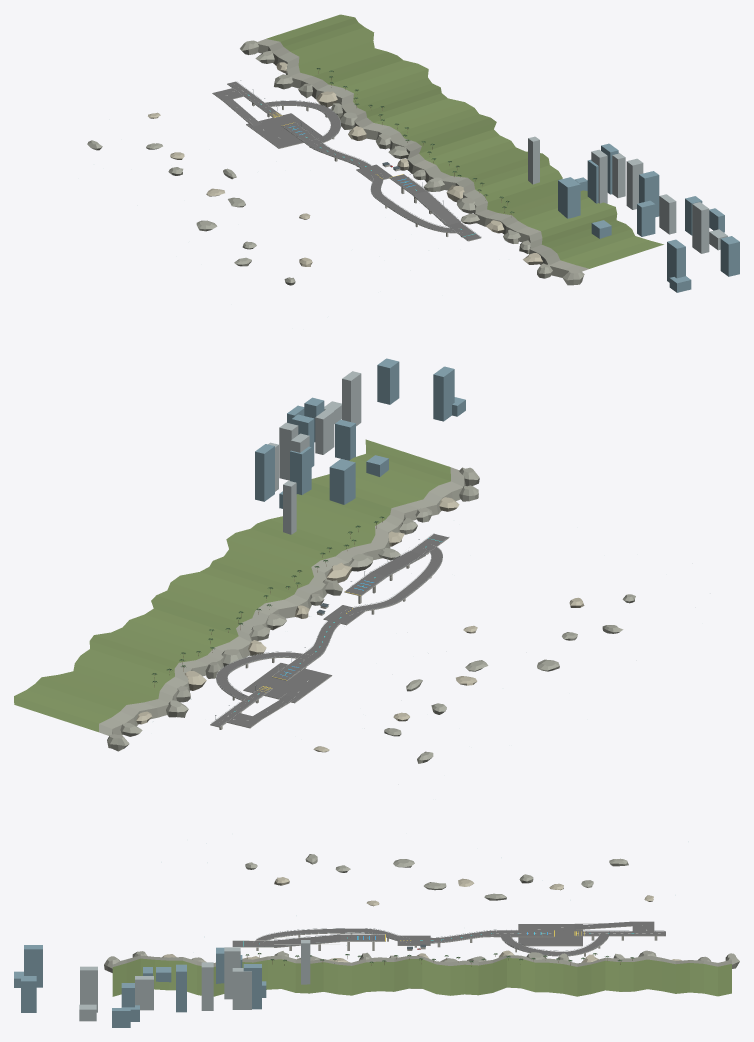
File: coastal-interchange.glb
The picture shows the model from 3 angles, top to bottom: view 1: azimuth 30°, elevation 25°; view 2: azimuth 150°, elevation 25°; view 3: azimuth 270°, elevation 25°; orthographic projection. The views are drawn at different scales.
Visible parts, largest first — view 1: CI_batch_green, CI_batch_rock, CI_batch_glass, CI_batch_building, CI_batch_rockLight, CI_surface_recovery, CI_surface_ramp; view 2: CI_batch_green, CI_batch_rock, CI_batch_glass, CI_batch_building, CI_batch_rockLight, CI_surface_recovery; view 3: CI_batch_green, CI_batch_rock, CI_batch_building, CI_batch_glass, CI_surface_recovery, CI_batch_rockLight, CI_batch_rail, CI_surface_ramp, CI_surface_landing, CI_batch_edge, CI_surface_runway, CI_surface_high (+1 smaller).
Part boxes in pixels (left/top/right/bottom): CI_batch_green: left=266, top=14, right=663, bottom=268; CI_batch_rock: left=87, top=39, right=588, bottom=285; CI_batch_glass: left=383, top=143, right=739, bottom=292; CI_batch_building: left=528, top=136, right=727, bottom=253; CI_batch_rockLight: left=148, top=62, right=542, bottom=266; CI_surface_recovery: left=246, top=113, right=322, bottom=148; CI_surface_ramp: left=412, top=191, right=460, bottom=225; CI_batch_green: left=14, top=439, right=450, bottom=732; CI_batch_rock: left=99, top=467, right=635, bottom=763; CI_batch_glass: left=255, top=358, right=465, bottom=613; CI_batch_building: left=268, top=371, right=361, bottom=534; CI_batch_rockLight: left=136, top=497, right=584, bottom=752; CI_surface_recovery: left=243, top=663, right=332, bottom=703; CI_batch_green: left=112, top=958, right=731, bottom=996; CI_batch_rock: left=104, top=854, right=739, bottom=995; CI_batch_building: left=79, top=940, right=310, bottom=1021; CI_batch_glass: left=14, top=945, right=266, bottom=1027; CI_surface_recovery: left=518, top=924, right=582, bottom=946; CI_batch_rockLight: left=162, top=877, right=681, bottom=962; CI_batch_rail: left=233, top=928, right=664, bottom=955; CI_surface_ramp: left=274, top=934, right=340, bottom=947; CI_surface_landing: left=497, top=930, right=554, bottom=937; CI_batch_edge: left=233, top=923, right=660, bottom=955; CI_surface_runway: left=575, top=931, right=640, bottom=936; CI_surface_high: left=340, top=934, right=385, bottom=941.
Size of what is drawn, in the model's own units: 605 by 83.43 by 877.
Materials: 17 (1 with a texture image).
